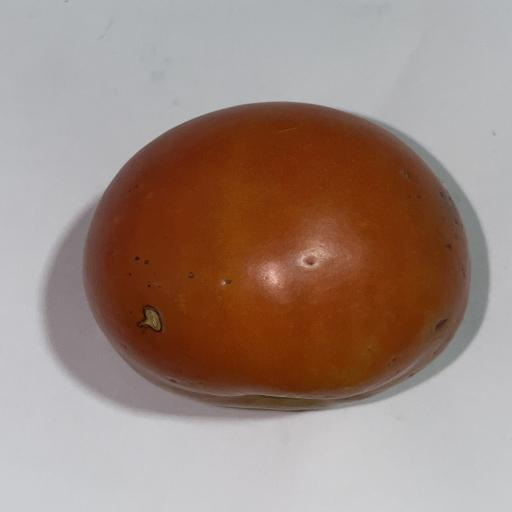ripe: (83, 103, 470, 410)
